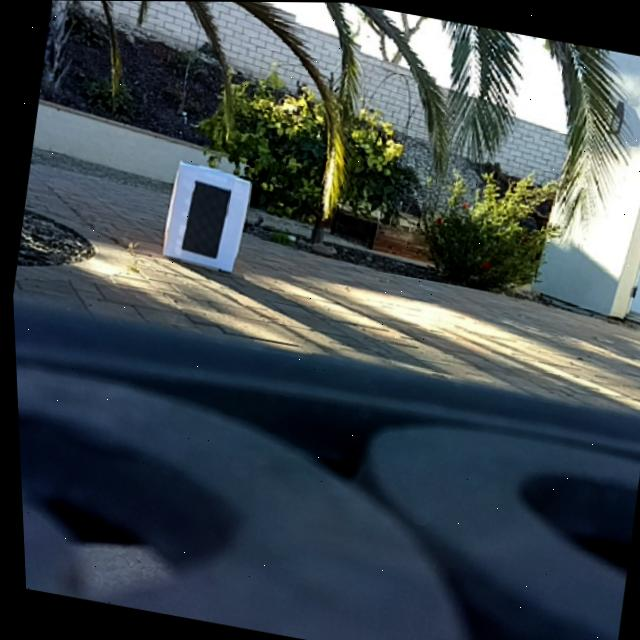led: (178, 179, 230, 259)
